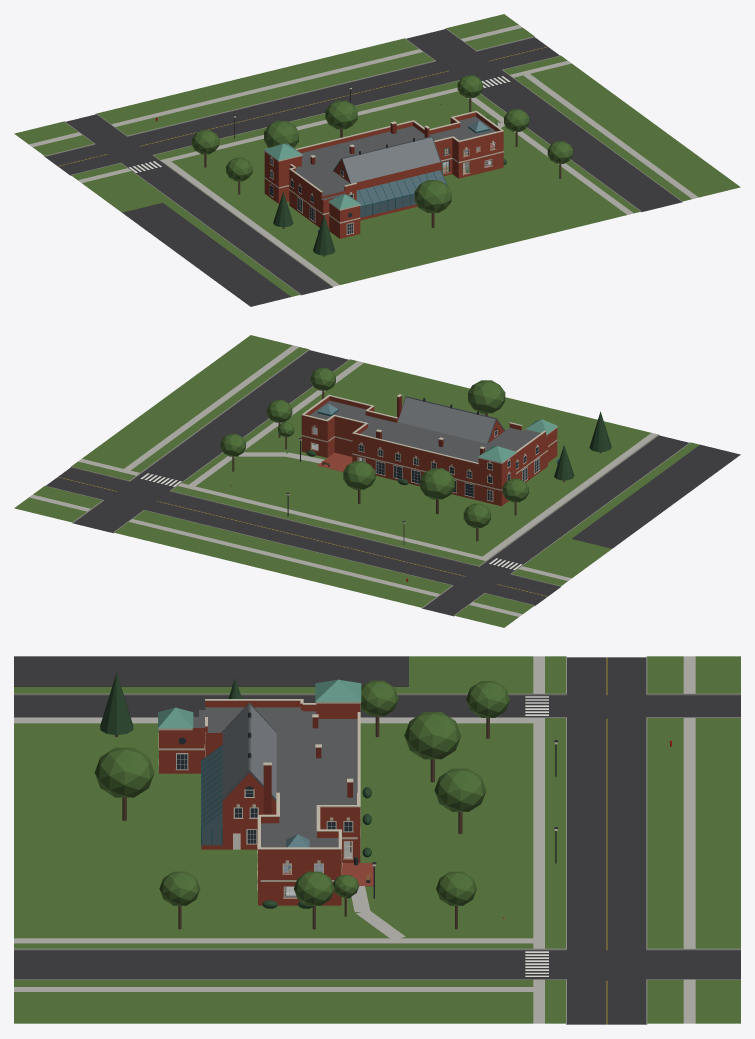
3 renders of one model, top to bottom at view 1: azimuth 30°, elevation 25°; view 2: azimuth 150°, elevation 25°; view 3: azimuth 270°, elevation 25°, orthographic. The views are drawn at different scales.
Visible parts, largest first — view 1: ext_ground, ext_massing, ext_roofs, ext_facade_details, ext_house_walls, tree-south-1, tree-north-2, tree-north-1, int_slabs, tree-north-3, tree-west-1, conifer-south-1 (+3 smaller); view 2: ext_ground, ext_massing, ext_facade_details, ext_roofs, ext_house_walls, tree-south-1, tree-north-1, tree-north-2, int_slabs, tree-north-3, tree-west-1, tree-east-1 (+3 smaller); view 3: ext_ground, ext_massing, ext_roofs, ext_facade_details, ext_house_walls, tree-south-1, tree-north-1, tree-north-2, int_slabs, tree-north-3, tree-west-1, tree-east-2 (+3 smaller).
Boxes of the visible parts, x1,y1,x2,y2 form: ext_ground: [14, 14, 740, 306]; ext_massing: [264, 123, 440, 238]; ext_roofs: [263, 136, 447, 217]; ext_facade_details: [264, 110, 503, 234]; ext_house_walls: [396, 112, 503, 178]; tree-south-1: [414, 180, 451, 227]; tree-north-2: [325, 100, 357, 137]; tree-north-1: [264, 120, 298, 147]; int_slabs: [429, 116, 495, 140]; tree-north-3: [192, 130, 219, 167]; tree-west-1: [226, 157, 252, 194]; conifer-south-1: [313, 215, 335, 256]; ext_ground: [14, 335, 740, 627]; ext_massing: [360, 396, 557, 506]; ext_facade_details: [301, 394, 557, 501]; ext_roofs: [397, 396, 557, 462]; ext_house_walls: [301, 396, 397, 464]; tree-south-1: [468, 380, 505, 415]; tree-north-1: [420, 468, 454, 514]; tree-north-2: [343, 461, 375, 503]; int_slabs: [309, 400, 378, 425]; tree-north-3: [463, 503, 490, 541]; tree-west-1: [502, 478, 528, 515]; tree-east-1: [220, 434, 245, 471]; ext_ground: [14, 656, 740, 1024]; ext_massing: [159, 703, 360, 849]; ext_roofs: [158, 679, 361, 845]; ext_facade_details: [158, 699, 360, 881]; ext_house_walls: [258, 807, 360, 905]; tree-south-1: [94, 747, 154, 820]; tree-north-1: [404, 712, 461, 782]; tree-north-2: [434, 768, 486, 834]; int_slabs: [261, 813, 338, 864]; tree-north-3: [466, 681, 509, 738]; tree-west-1: [360, 680, 398, 737]; tree-east-2: [294, 871, 334, 929].
Size of the model in its own units: 110 by 12.25 by 92.
